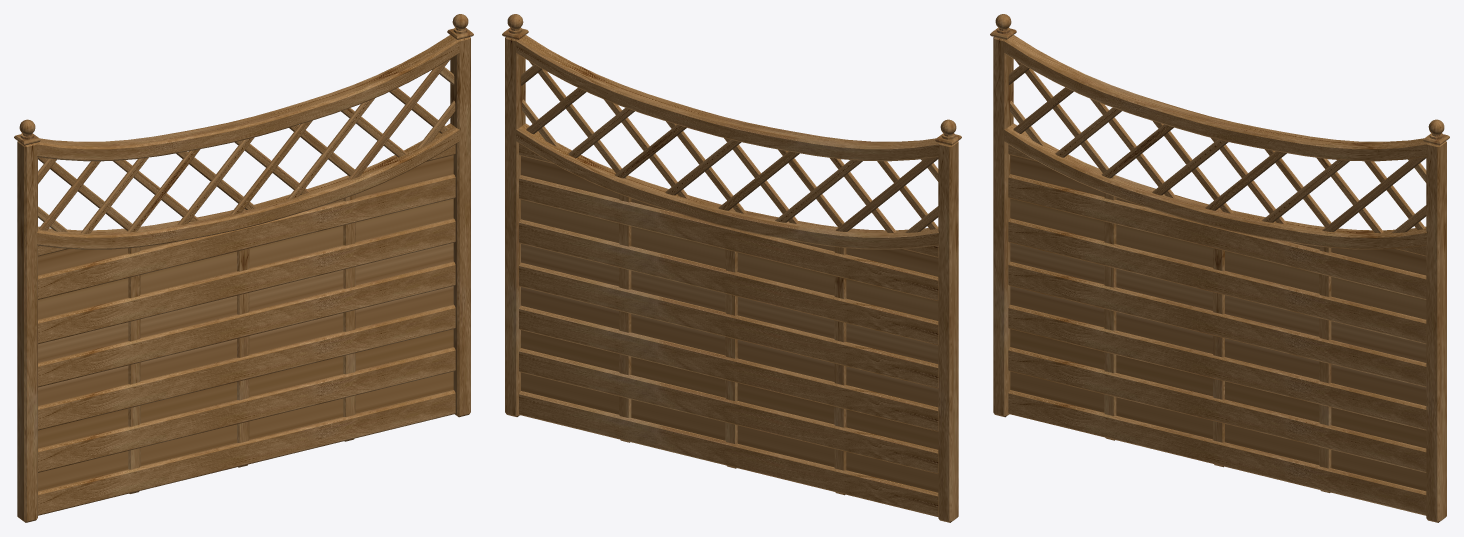
The model's file is fence_wood_15f4dbf8.fbx.
3 renders of one model, left to right at view 1: azimuth 30°, elevation 25°; view 2: azimuth 150°, elevation 25°; view 3: azimuth 330°, elevation 25°, orthographic.
Visible parts, largest first — view 1: fence_wood_15f4dbf8; view 2: fence_wood_15f4dbf8; view 3: fence_wood_15f4dbf8.
Boxes of the visible parts, x1,y1,x2,y2 form: fence_wood_15f4dbf8: [14, 14, 473, 522]; fence_wood_15f4dbf8: [502, 14, 961, 522]; fence_wood_15f4dbf8: [990, 14, 1449, 522].
Size of the model in its own units: 1.87 by 1.59 by 0.0706.
1 material, 1 textured.
